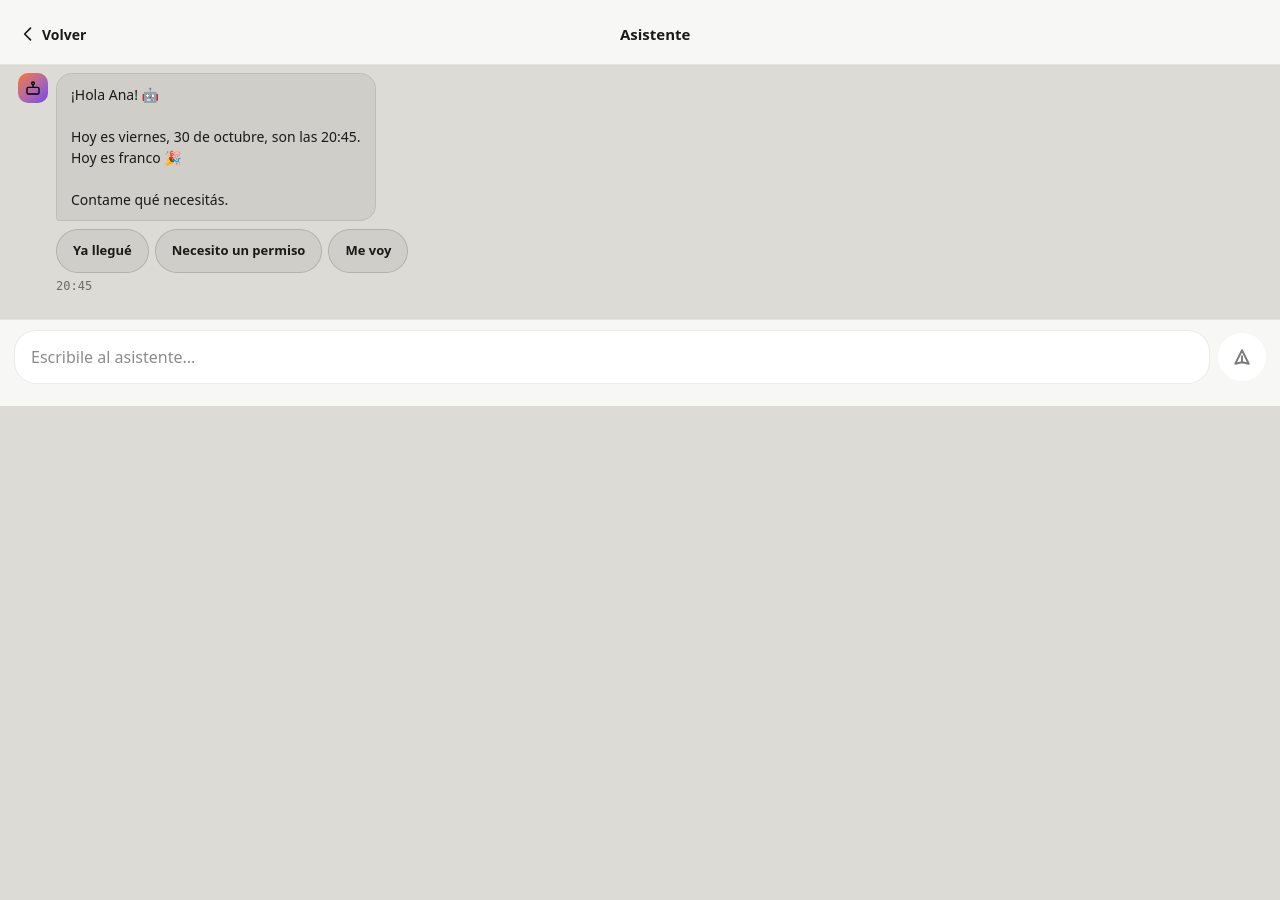
Test: chat — si el servidor bloquea por tardanza, ofrece pedir permiso
Click the button "Ya llegué".
click(102, 251)  # box [56, 229, 149, 273]
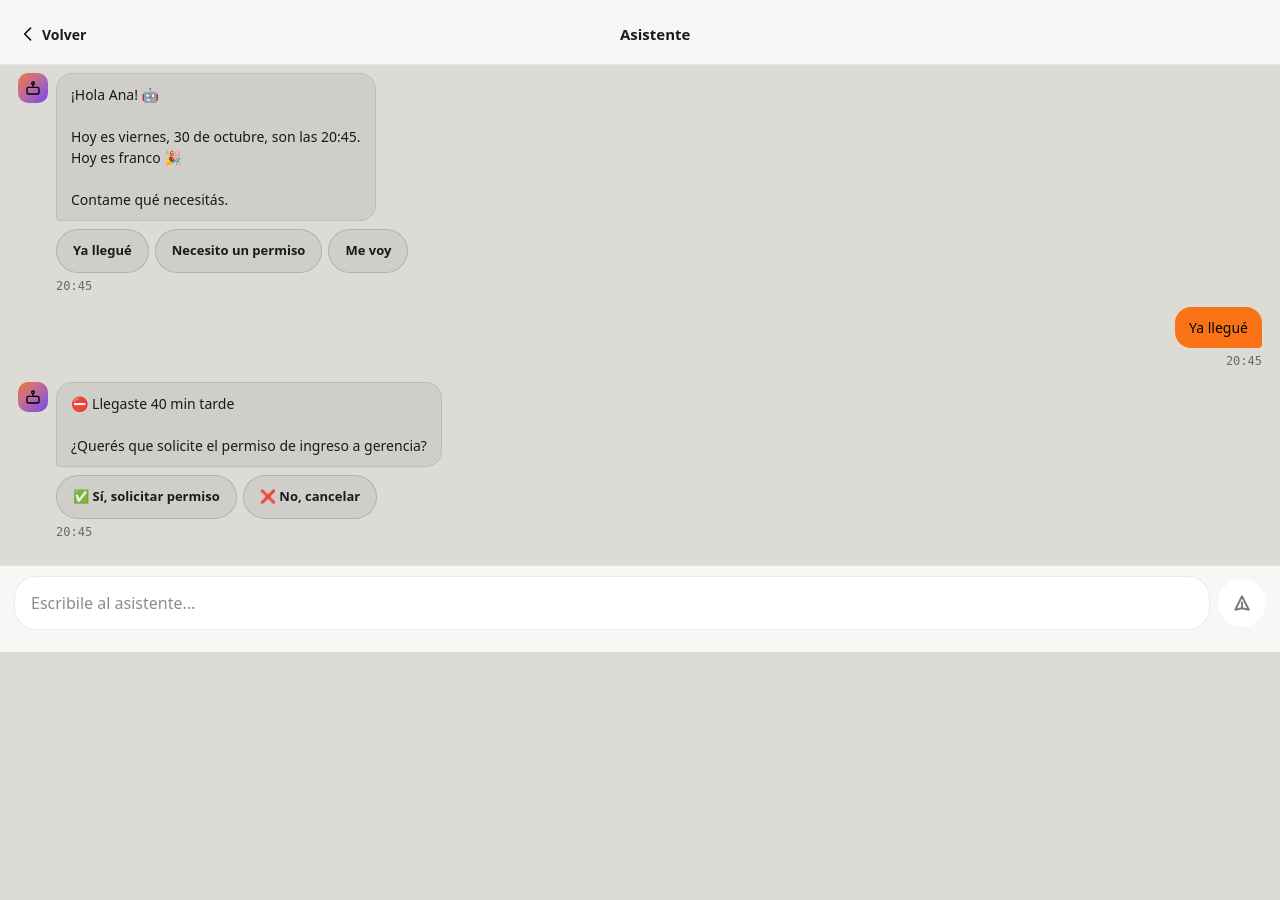
Expected: the text "Llegaste 40 min tarde" is shown, [71, 394, 427, 455]
Expected: the button "✅ Sí, solicitar permiso" is shown, [56, 475, 237, 519]
